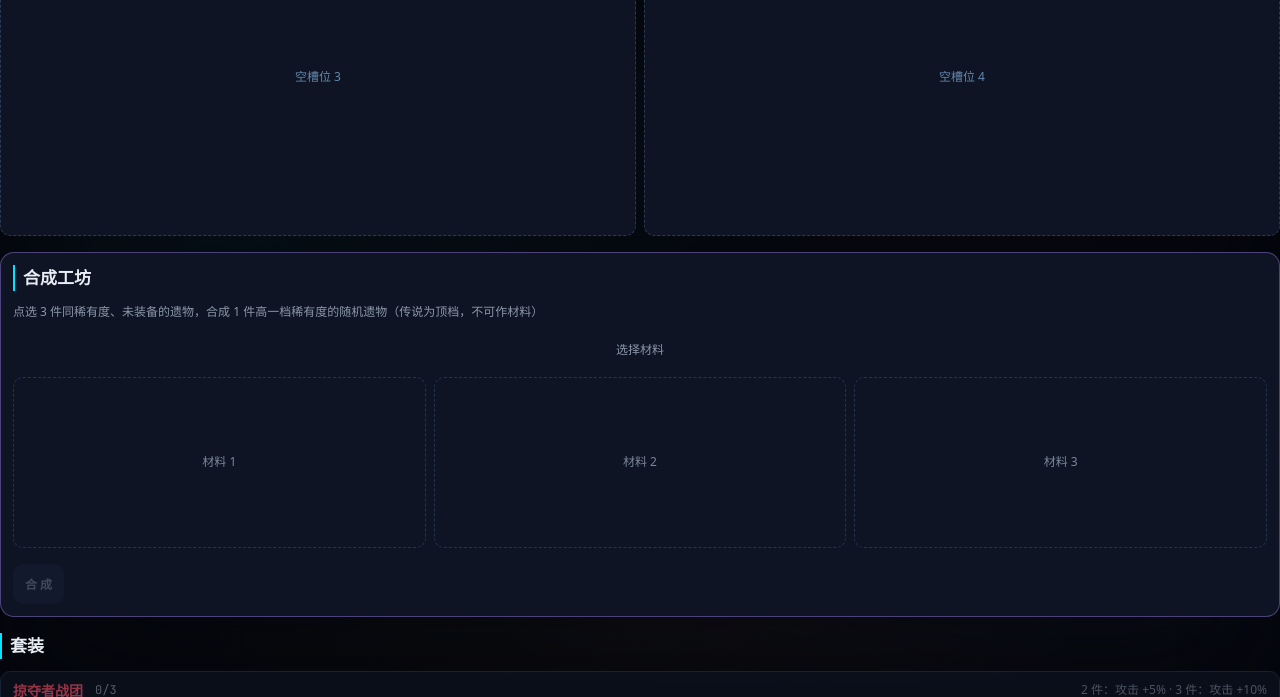
Scenario: RelicView — 合成工坊 › 合成成功：3 件 common → 1 件 rare，材料消耗，产物弹窗出现
(page scrolled)
What coordinates should you click on to do the following:
click the button with test id "select-mode-button"
I would click on:
 (640, 348)
Its box is [13,328,1267,368].
(page scrolled)
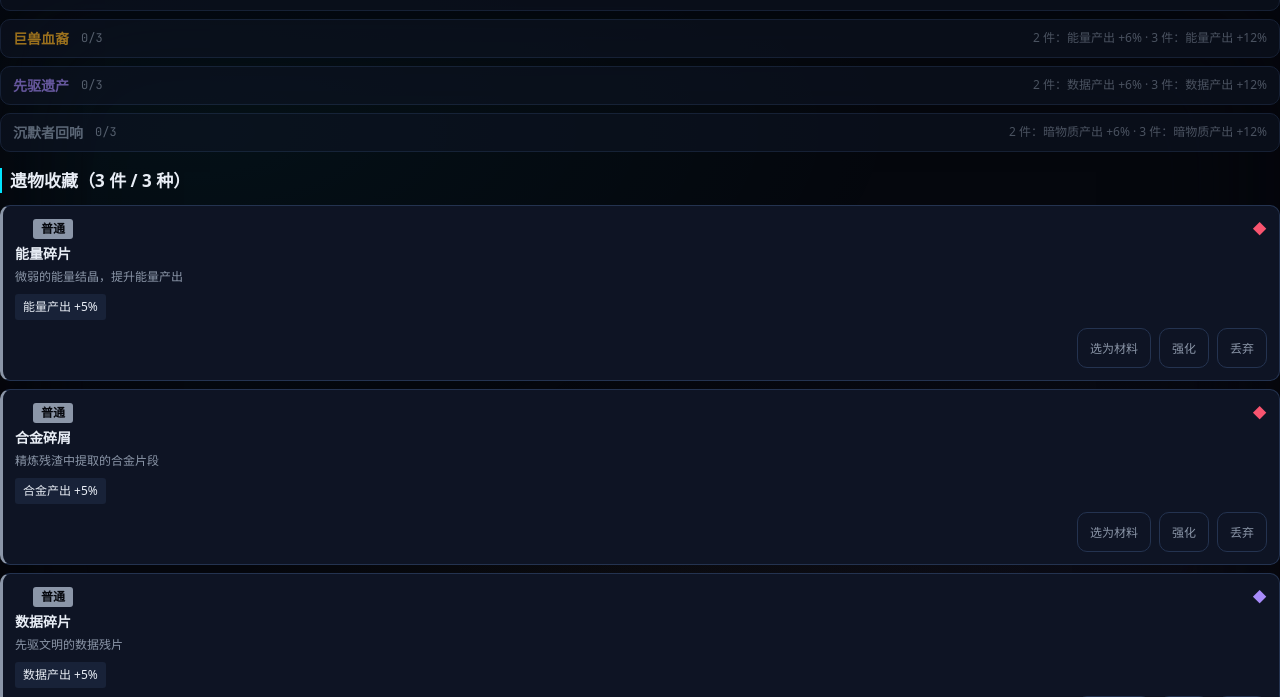
What coordinates should you click on to do the following:
click the 1st button with test id "select-material-button"
I would click on:
 (1114, 348)
Its box is [1077,328,1151,368].
(page scrolled)
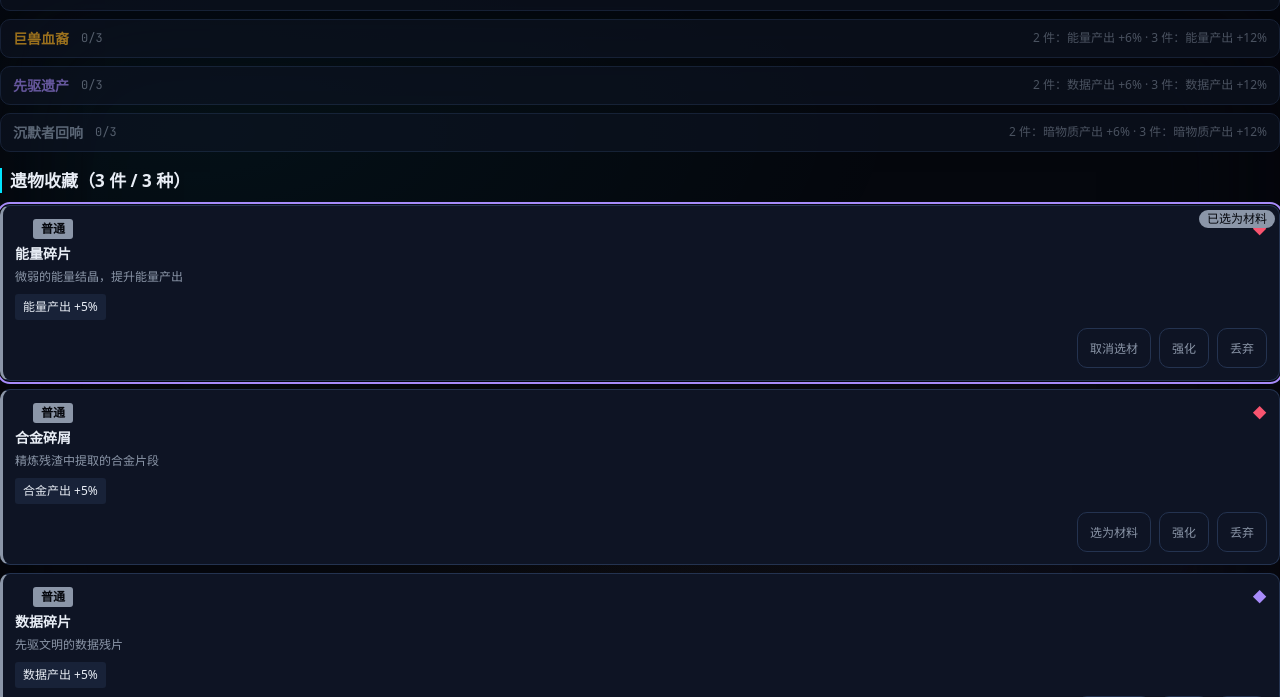
What coordinates should you click on to do the following:
click the 2nd button with test id "select-material-button"
I would click on:
 (1114, 532)
Its box is [1077,512,1151,552].
(page scrolled)
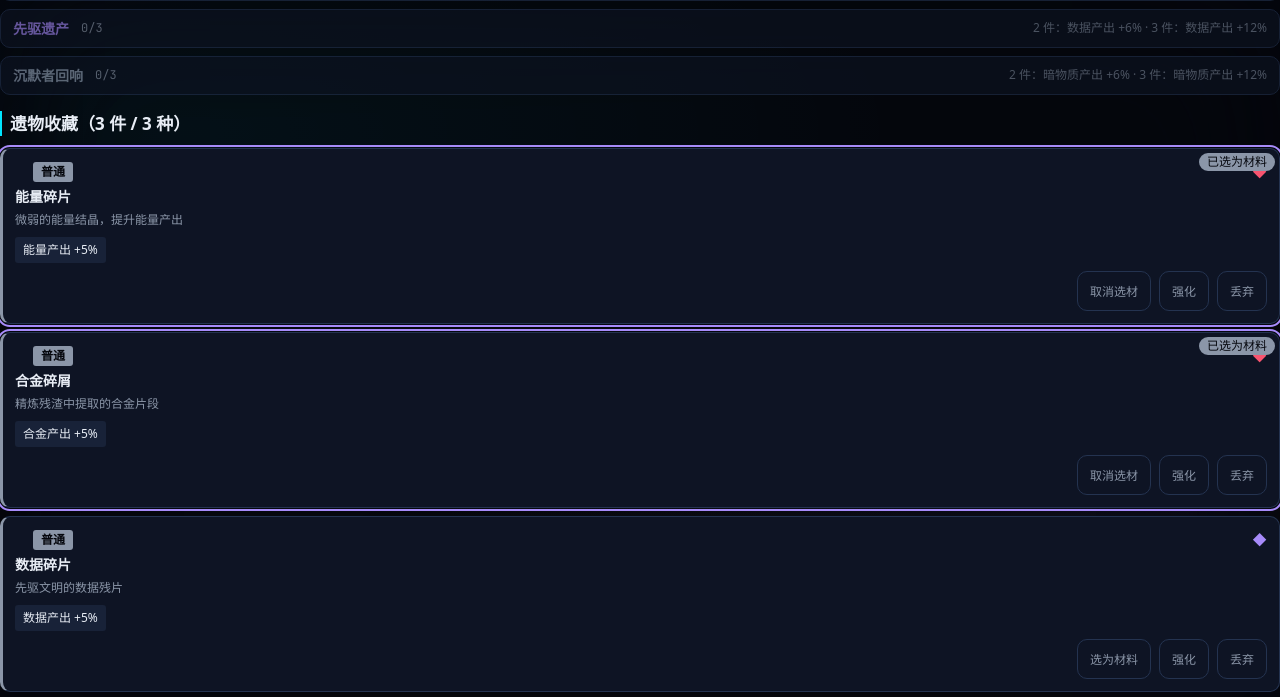
What coordinates should you click on to do the following:
click the button with test id "select-material-button" showing "选为材料"
I would click on:
 (1114, 659)
Its box is [1077,639,1151,679].
(page scrolled)
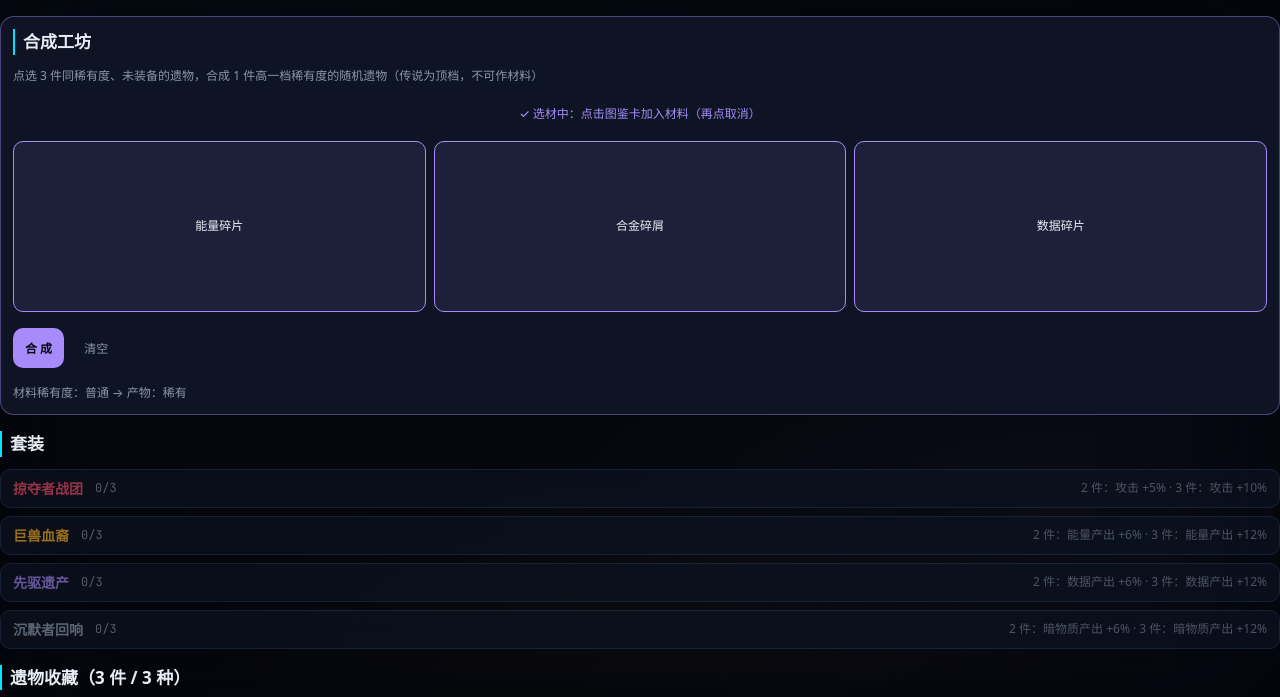
Check: the button with test id "fusion-button" is enabled
What coordinates should you click on to do the following:
click the button with test id "fusion-button"
I would click on:
 (39, 348)
Its box is [13,328,64,368].
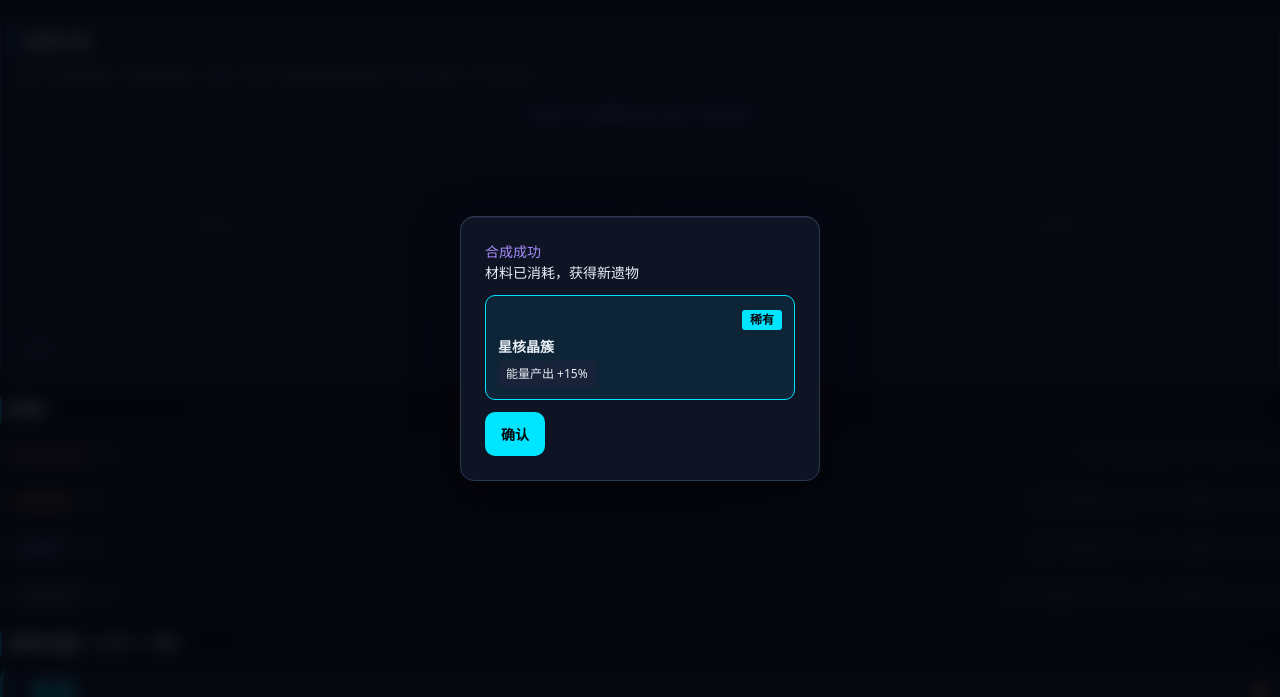
Check: the text "合成成功" is shown, box [485,242,541,260]
Check: the element with test id "synth-product-rare" is shown, box [485,294,795,400]
